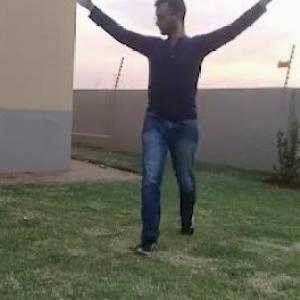takeoff: (60, 0, 299, 257)
